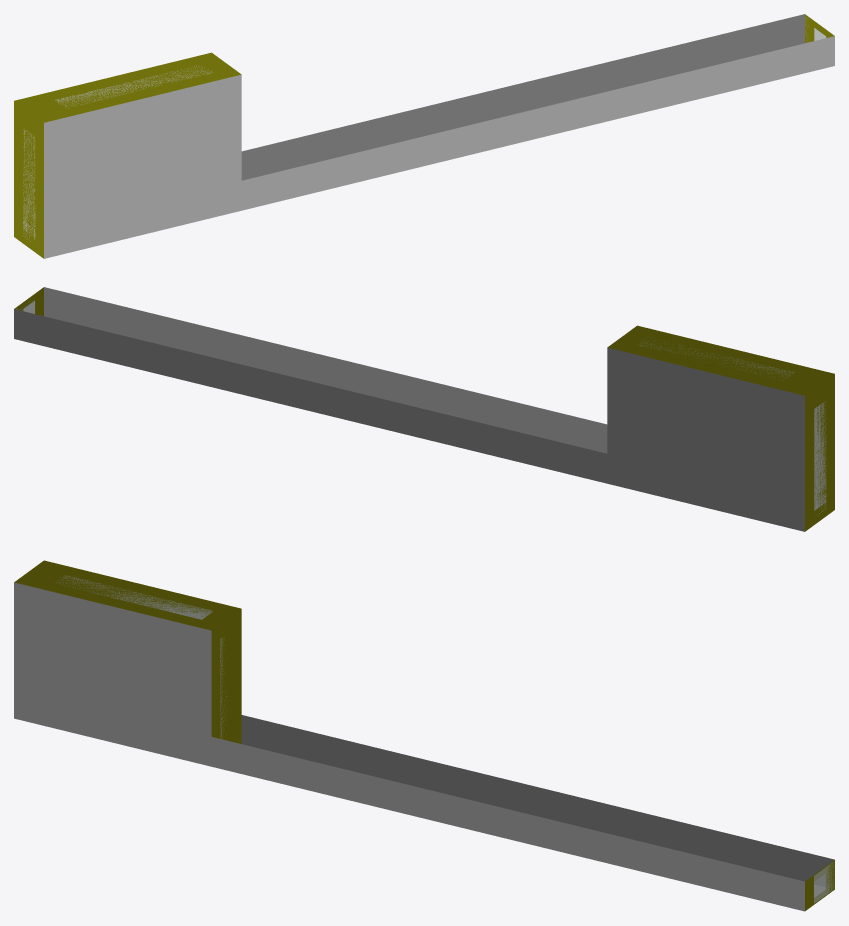
Rendered from idf.obj.
The picture shows the model from 3 angles, top to bottom: view 1: azimuth 30°, elevation 25°; view 2: azimuth 150°, elevation 25°; view 3: azimuth 330°, elevation 25°; orthographic projection.
Bounding box in the file's own units: 46.33 × 7.62 × 3.05.
